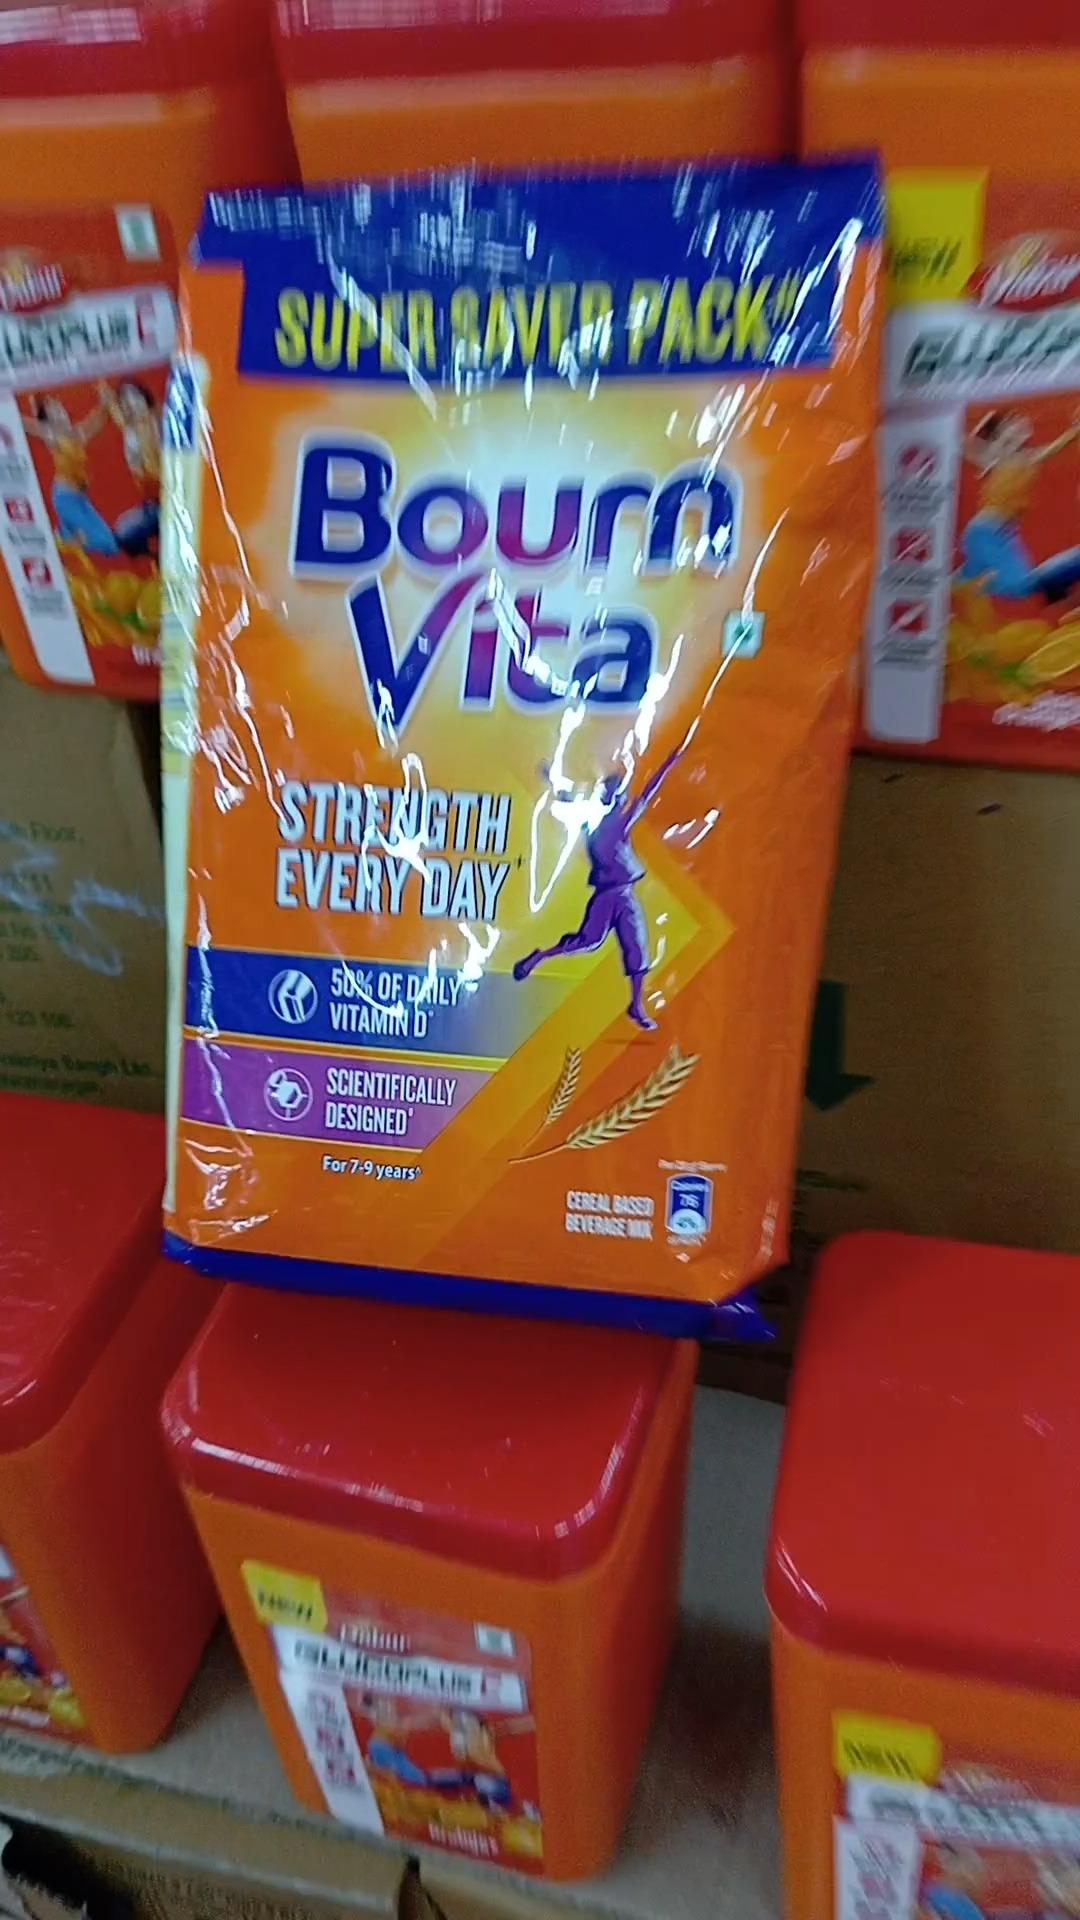BOURN_VITA_1_KG_POUCH: (169, 144, 783, 1313)
